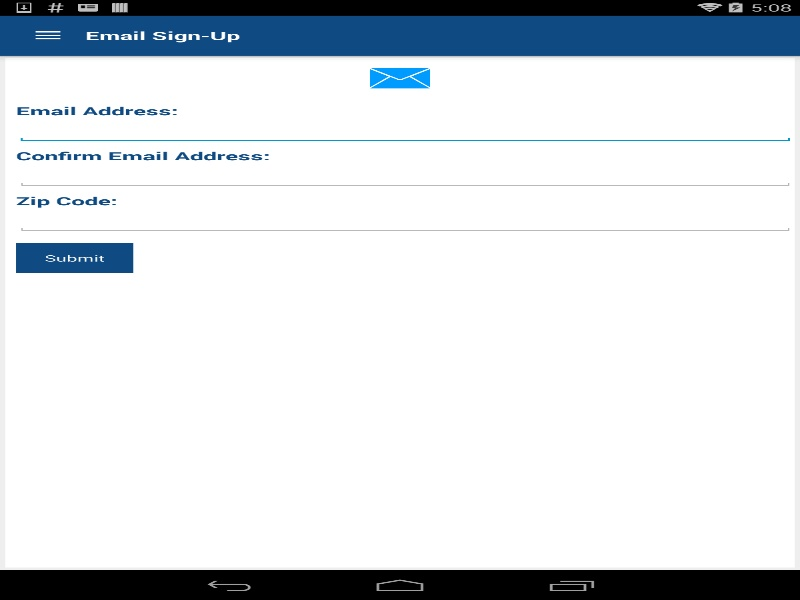Button: (16, 243, 133, 273), (10, 18, 85, 53)
Input: (16, 118, 794, 143), (16, 163, 794, 188), (16, 208, 794, 233)
